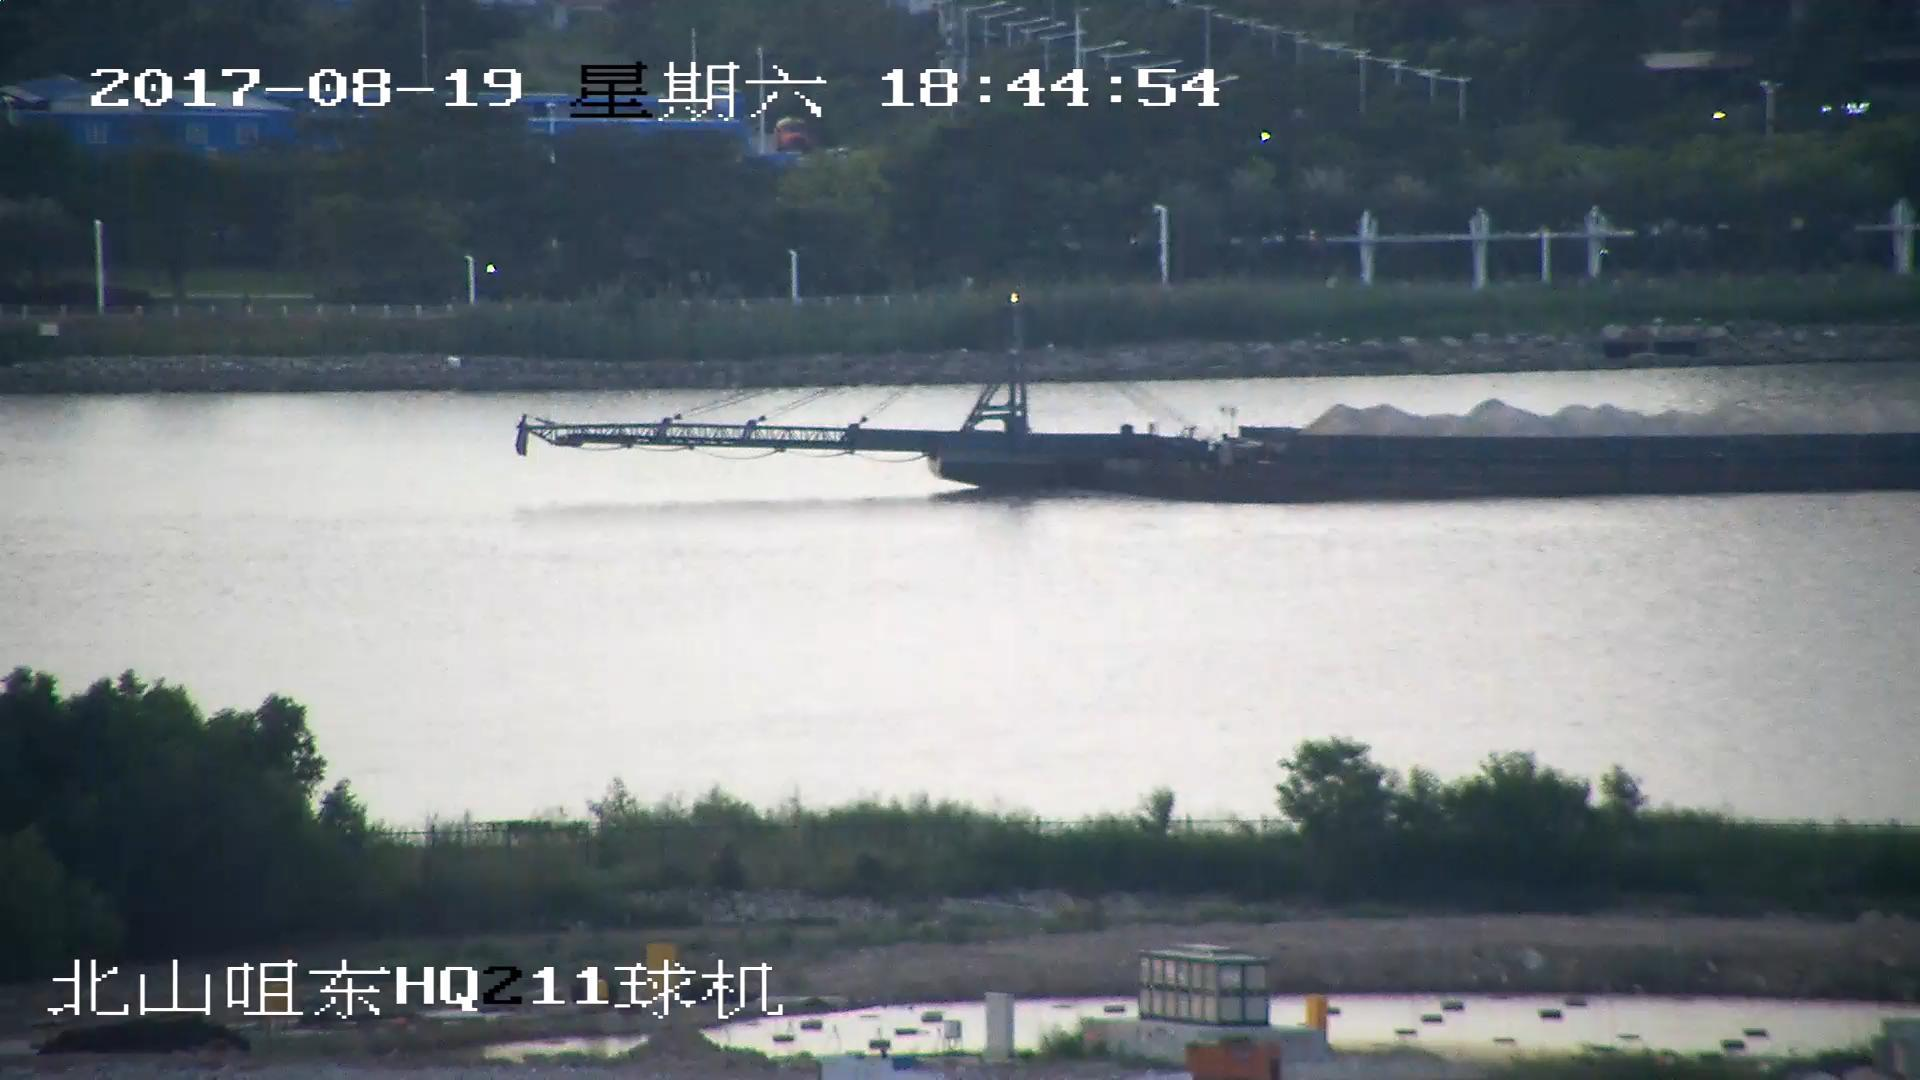Ship: (516, 299, 1920, 505)
